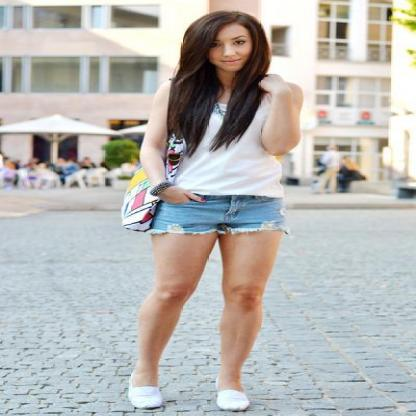bag: (122, 181, 163, 243)
shirt: (162, 93, 286, 197)
shoe: (128, 384, 248, 408)
shorts: (154, 194, 287, 240)
